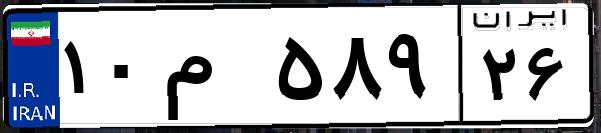0: (110, 28, 158, 98)
1: (57, 26, 110, 100)
2: (475, 38, 525, 113)
5: (270, 28, 330, 110)
6: (525, 38, 570, 115)
8: (330, 28, 385, 110)
9: (385, 28, 445, 110)
م: (158, 20, 270, 120)
